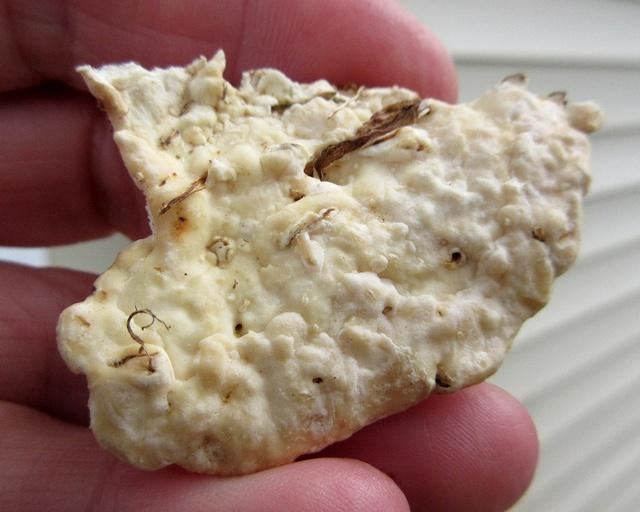poisonous_mushroom: (53, 47, 602, 475)
